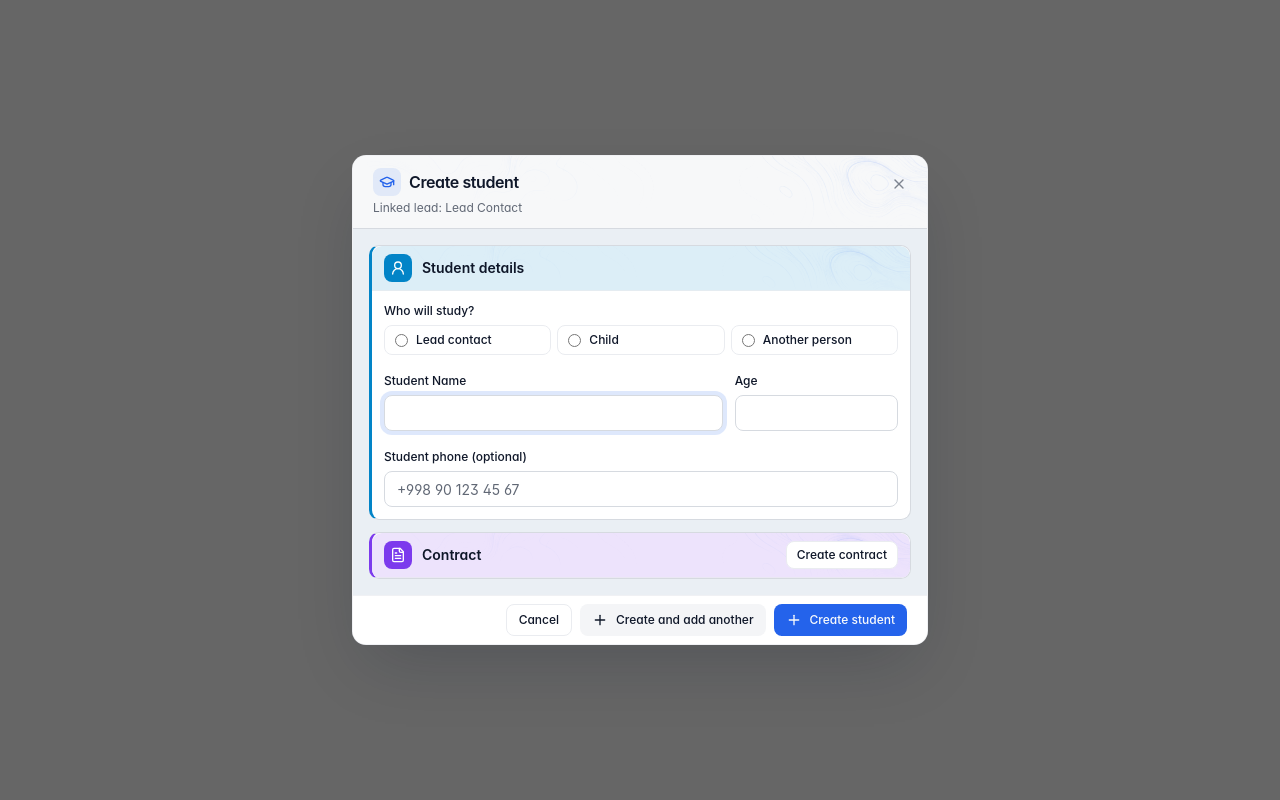
Test case: Lead conversion learner and portal access choices › resets learner choice between multiple students without adding unsupported conversion fields
Step 1. Click the radio button labelled "Child" → (575, 340), box x1=568 y1=334 x2=581 y2=346
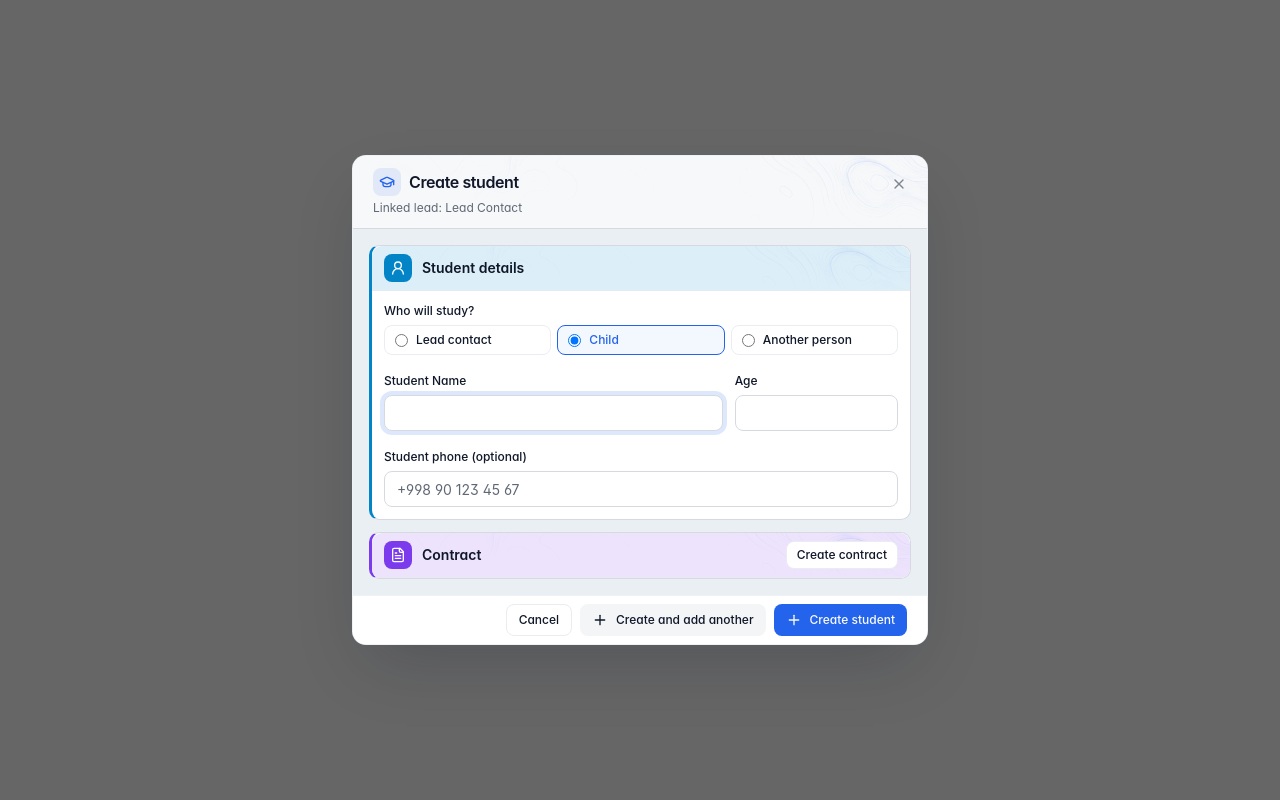
Step 2. Type "First Learner" into the field labelled "Student Name" → (553, 413), box x1=384 y1=395 x2=723 y2=431
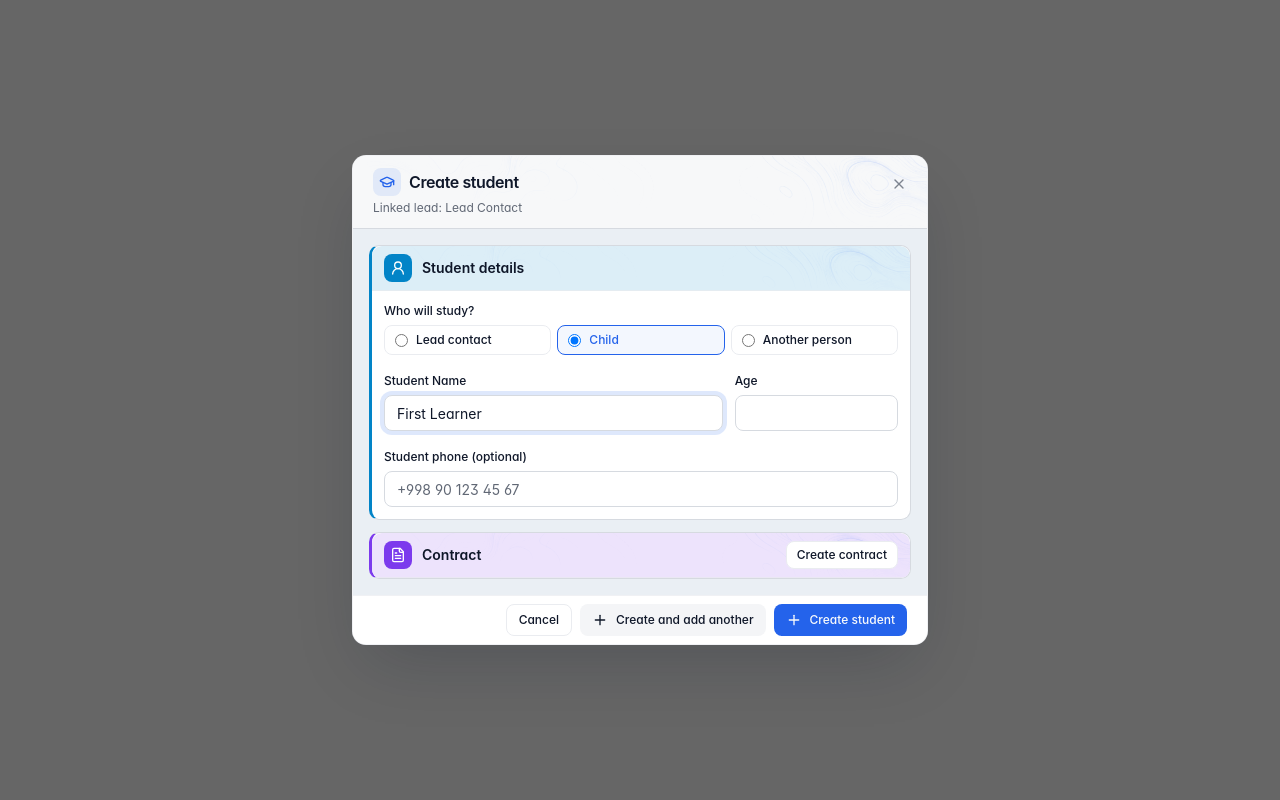
Step 3. Click the button "Create and add another" → (673, 620), box x1=580 y1=604 x2=766 y2=636
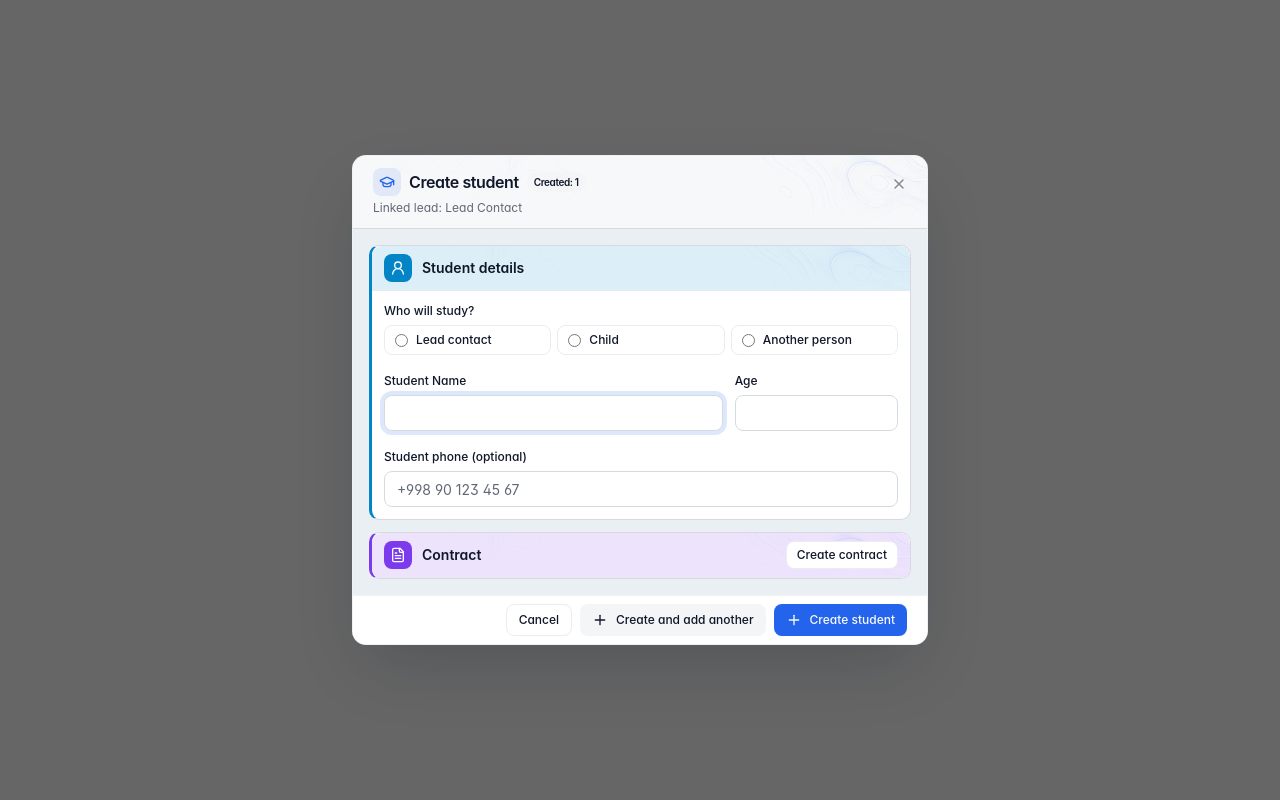
Expected: the radio button labelled "Child" is not checked, x1=568 y1=334 x2=581 y2=346
Expected: the field labelled "Student Name" is empty, x1=384 y1=395 x2=723 y2=431
